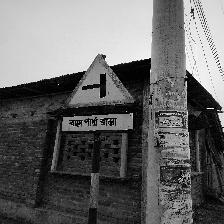Side-road-left: (61, 53, 138, 134)
